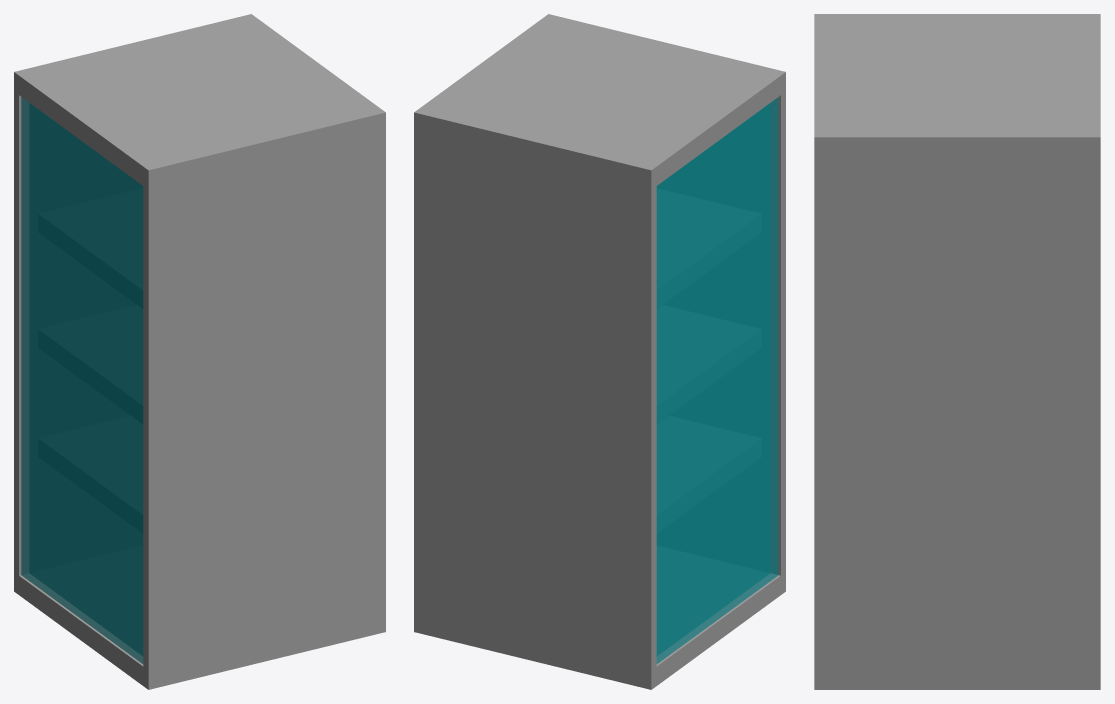
The model's file is koelkast.fbx.
3 renders of one model, left to right at view 1: azimuth 30°, elevation 25°; view 2: azimuth 150°, elevation 25°; view 3: azimuth 270°, elevation 25°, orthographic. The views are drawn at different scales.
Parts seen in each view (by area): view 1: koelkast; view 2: koelkast; view 3: koelkast.
Part boxes in pixels (<box>): koelkast: <box>14,14,385,689</box>; koelkast: <box>414,14,785,689</box>; koelkast: <box>814,14,1100,689</box>.
Bounding box in the file's own units: 8.6 × 17.98 × 8.44.
